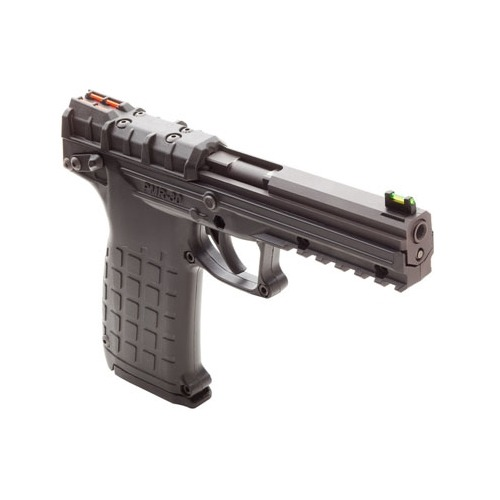gun: (57, 89, 438, 413)
